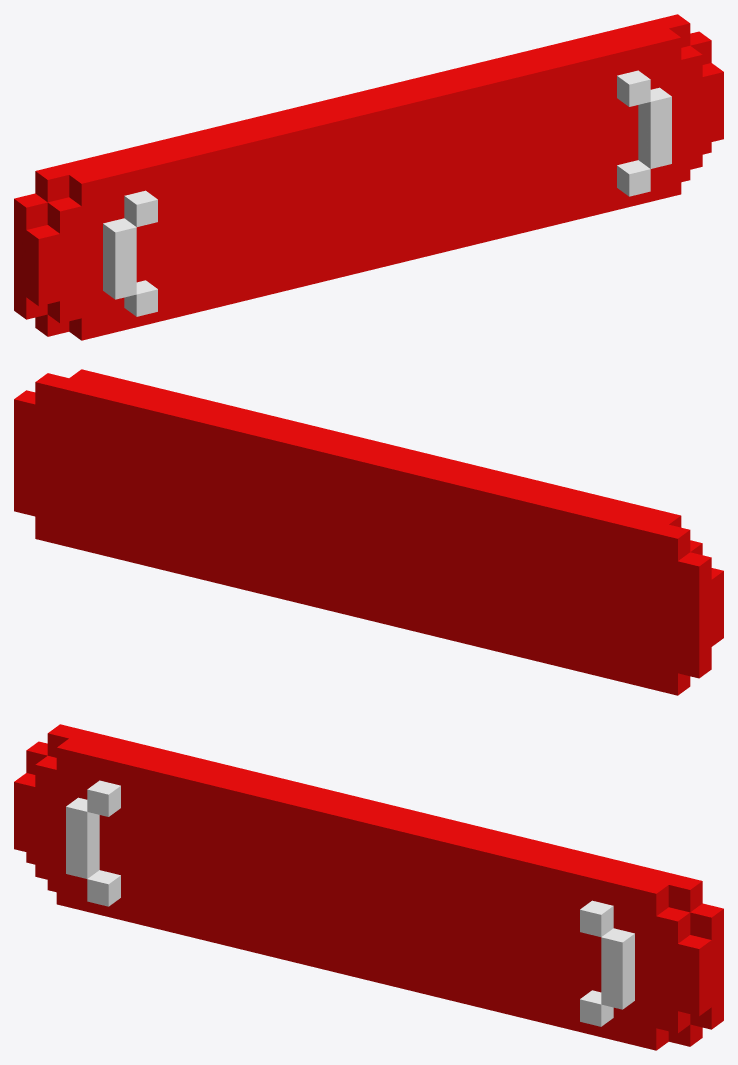
Rendered from name_input.obj.
3 renders of one model, top to bottom at view 1: azimuth 30°, elevation 25°; view 2: azimuth 150°, elevation 25°; view 3: azimuth 330°, elevation 25°, orthographic.
Parts seen in each view (by area): view 1: name_input; view 2: name_input; view 3: name_input.
Boxes of the visible parts, x1,y1,x2,y2 form: name_input: (14,14,723,340); name_input: (14,369,723,695); name_input: (14,724,723,1050).
Bounding box in the file's own units: 32 × 7 × 3.
Materials: 1 (1 with a texture image).
